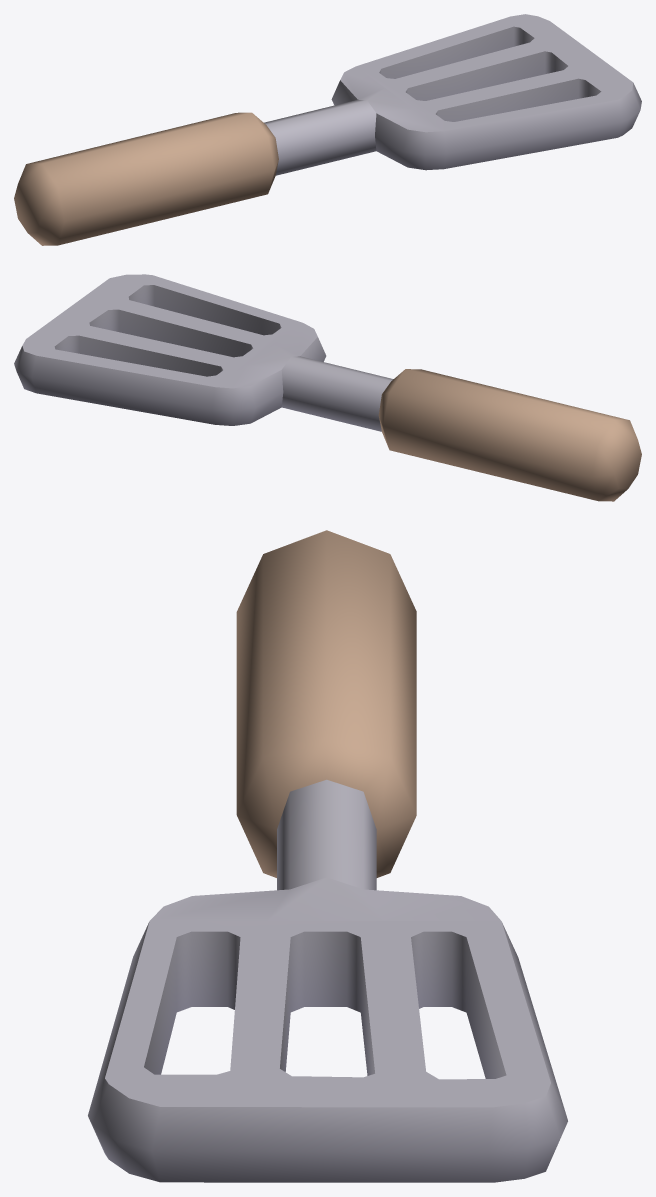
Rendered from utensil-spatula.glb.
3 views of the same model, one above another, from view 1: azimuth 30°, elevation 25°; view 2: azimuth 150°, elevation 25°; view 3: azimuth 270°, elevation 25° (orthographic). The views are drawn at different scales.
Parts seen in each view (by area): view 1: utensil-spatula; view 2: utensil-spatula; view 3: utensil-spatula.
Boxes of the visible parts, x1,y1,x2,y2 form: utensil-spatula: [14, 14, 641, 245]; utensil-spatula: [14, 274, 641, 501]; utensil-spatula: [88, 530, 567, 1182].
Bounding box in the file's own units: 0.397 × 0.0545 × 0.1454.
